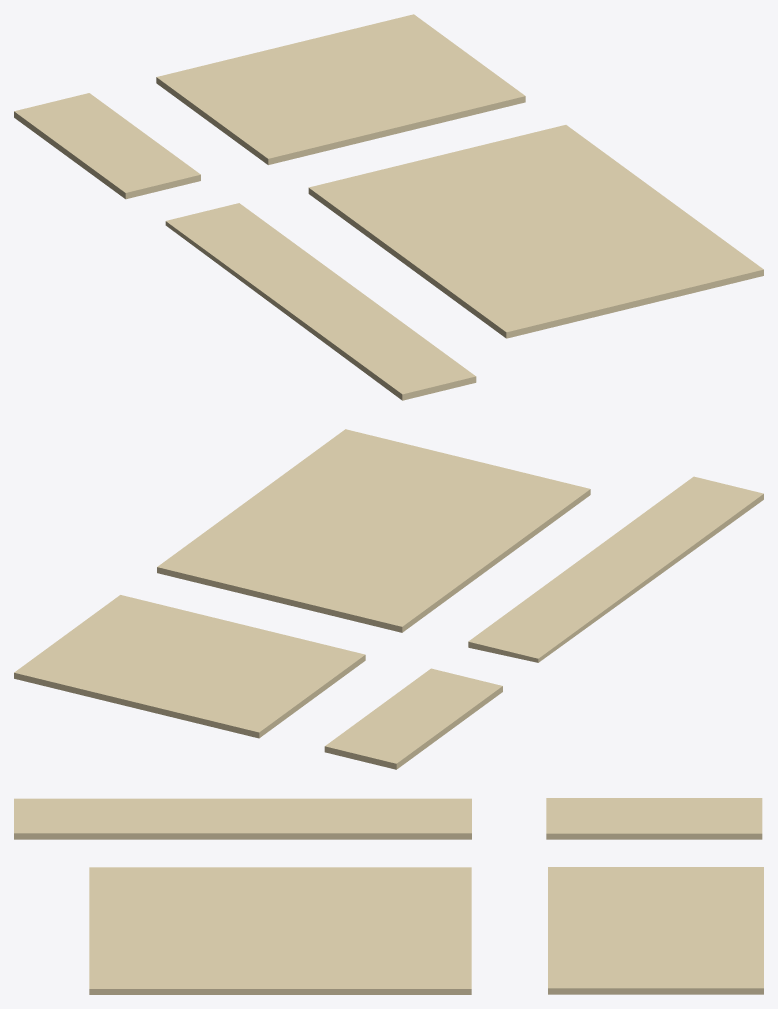
File: cube.002_material.009_0_lev1.glb
3 renders of one model, top to bottom at view 1: azimuth 30°, elevation 25°; view 2: azimuth 150°, elevation 25°; view 3: azimuth 270°, elevation 25°, orthographic. The views are drawn at different scales.
Visible parts, largest first — view 1: cube.002_material.009_0_lev1; view 2: cube.002_material.009_0_lev1; view 3: cube.002_material.009_0_lev1.
Boxes of the visible parts, <box> form: cube.002_material.009_0_lev1: <box>14,14,763,400</box>; cube.002_material.009_0_lev1: <box>14,429,763,769</box>; cube.002_material.009_0_lev1: <box>14,798,763,994</box>.
Size of the model in its own units: 3.2 by 0.0591 by 5.36.
Materials: 1 (1 with a texture image).
